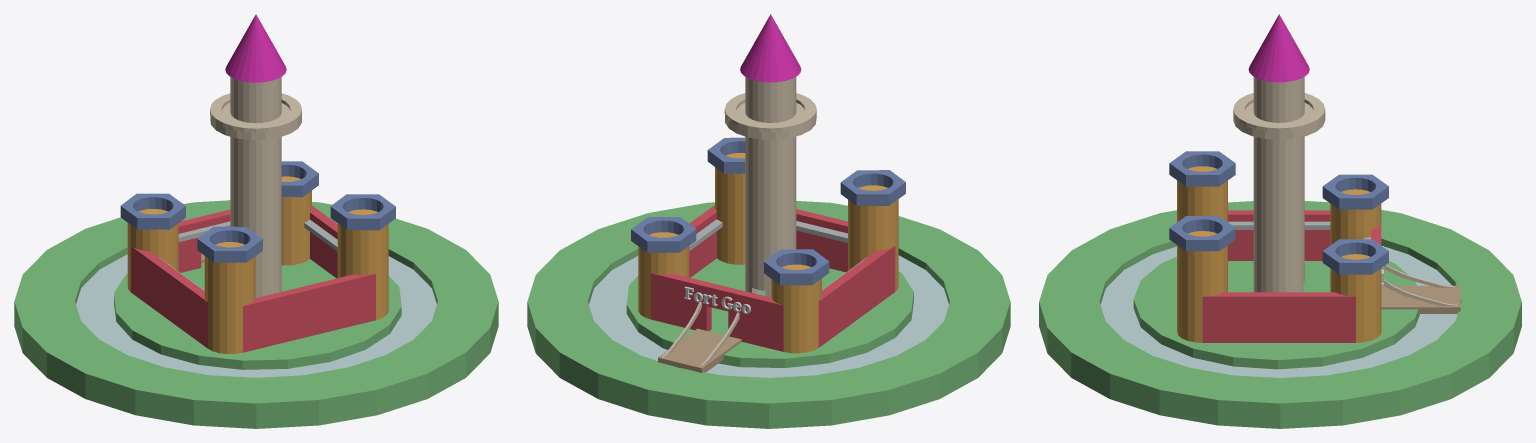
The model's file is Tom3DCastle.glb.
3 renders of one model, left to right at view 1: azimuth 30°, elevation 25°; view 2: azimuth 150°, elevation 25°; view 3: azimuth 270°, elevation 25°, orthographic.
Visible parts, largest first — view 1: Mesh_Mesh_head_geo.001_lambert2SG.001; view 2: Mesh_Mesh_head_geo.001_lambert2SG.001; view 3: Mesh_Mesh_head_geo.001_lambert2SG.001.
Boxes of the visible parts, x1,y1,x2,y2 form: Mesh_Mesh_head_geo.001_lambert2SG.001: (14,14,498,428); Mesh_Mesh_head_geo.001_lambert2SG.001: (527,14,1010,428); Mesh_Mesh_head_geo.001_lambert2SG.001: (1039,14,1521,428).
Size of the model in its own units: 189 by 135 by 189.
